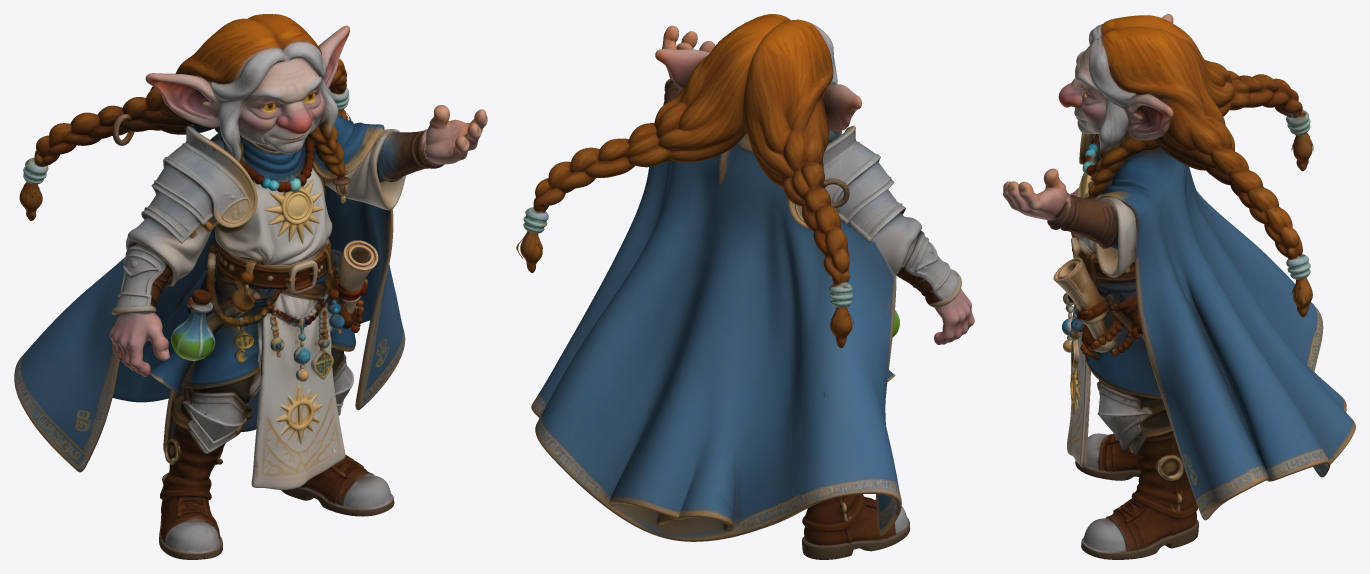
Rendered from gnome_cleric_full_female_01.glb.
3 views of the same model, side by side, from view 1: azimuth 30°, elevation 25°; view 2: azimuth 150°, elevation 25°; view 3: azimuth 270°, elevation 25° (orthographic). The views are drawn at different scales.
Visible parts, largest first — view 1: material; view 2: material; view 3: material.
Boxes of the visible parts, x1,y1,x2,y2 form: material: [14, 14, 487, 559]; material: [516, 14, 974, 559]; material: [1003, 14, 1355, 559].
Size of the model in its own units: 0.8207 by 1.05 by 0.6906.
1 material, 1 textured.
